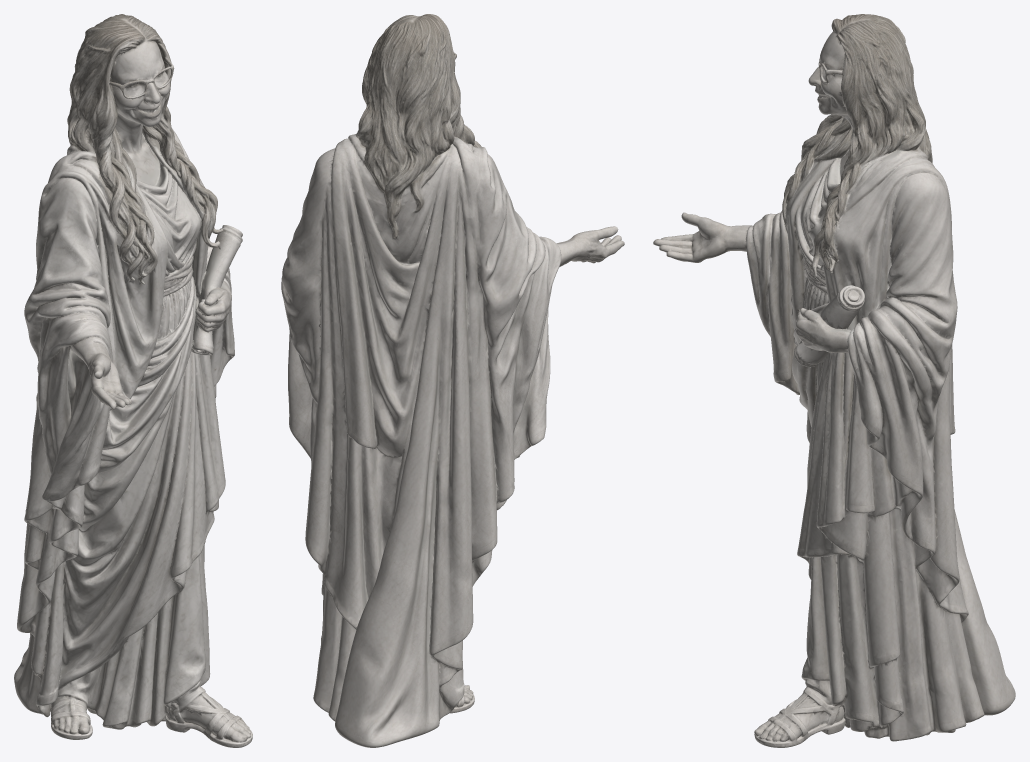
Rendered from muriel.glb.
3 views of the same model, side by side, from view 1: azimuth 30°, elevation 25°; view 2: azimuth 150°, elevation 25°; view 3: azimuth 270°, elevation 25° (orthographic). The views are drawn at different scales.
Parts seen in each view (by area): view 1: Mesh_0; view 2: Mesh_0; view 3: Mesh_0.
Boxes of the visible parts, bbox=[...] form: Mesh_0: bbox=[14, 14, 252, 747]; Mesh_0: bbox=[281, 14, 624, 747]; Mesh_0: bbox=[653, 14, 1015, 747].
Bounding box in the file's own units: 2.81 × 8 × 3.8.
1 material, 1 textured.
